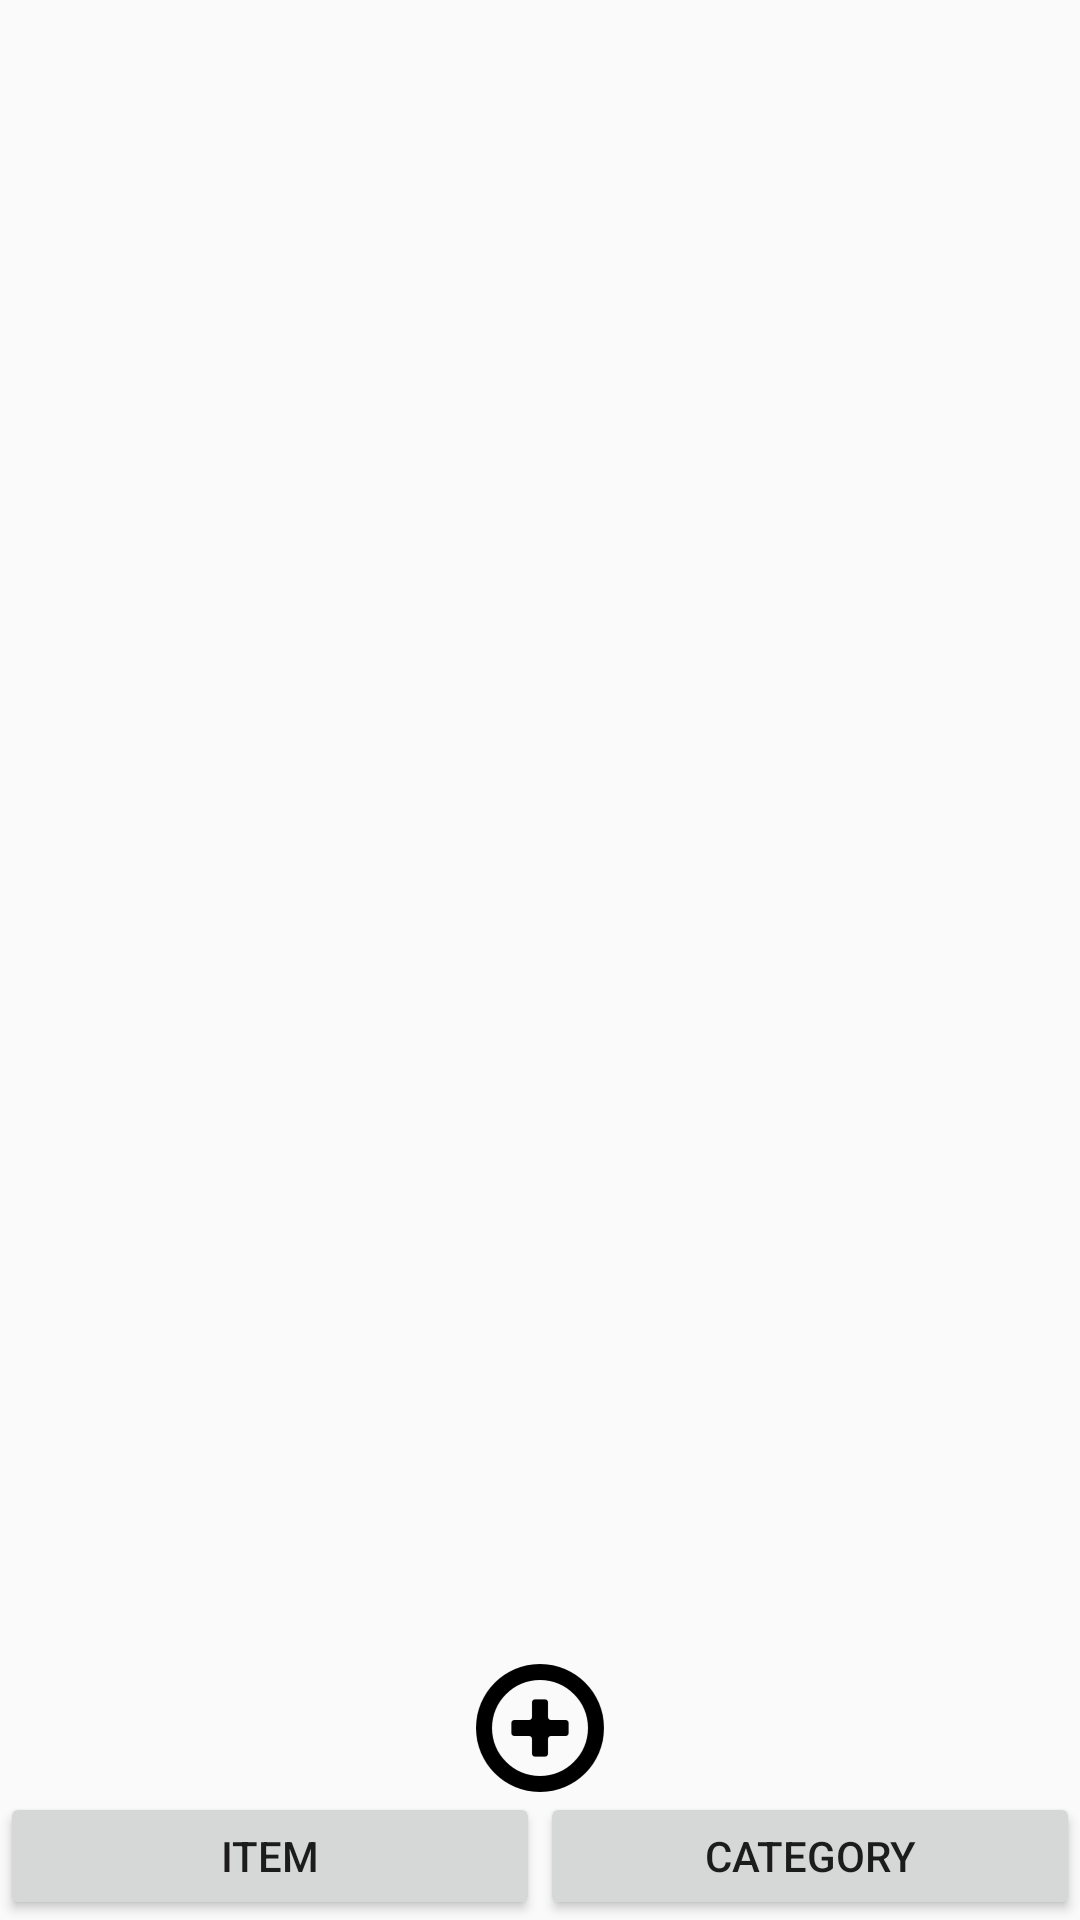

Icon click points for this 1080x1920 phone screenshot, format point (x, y):
add: point (540, 1728)
